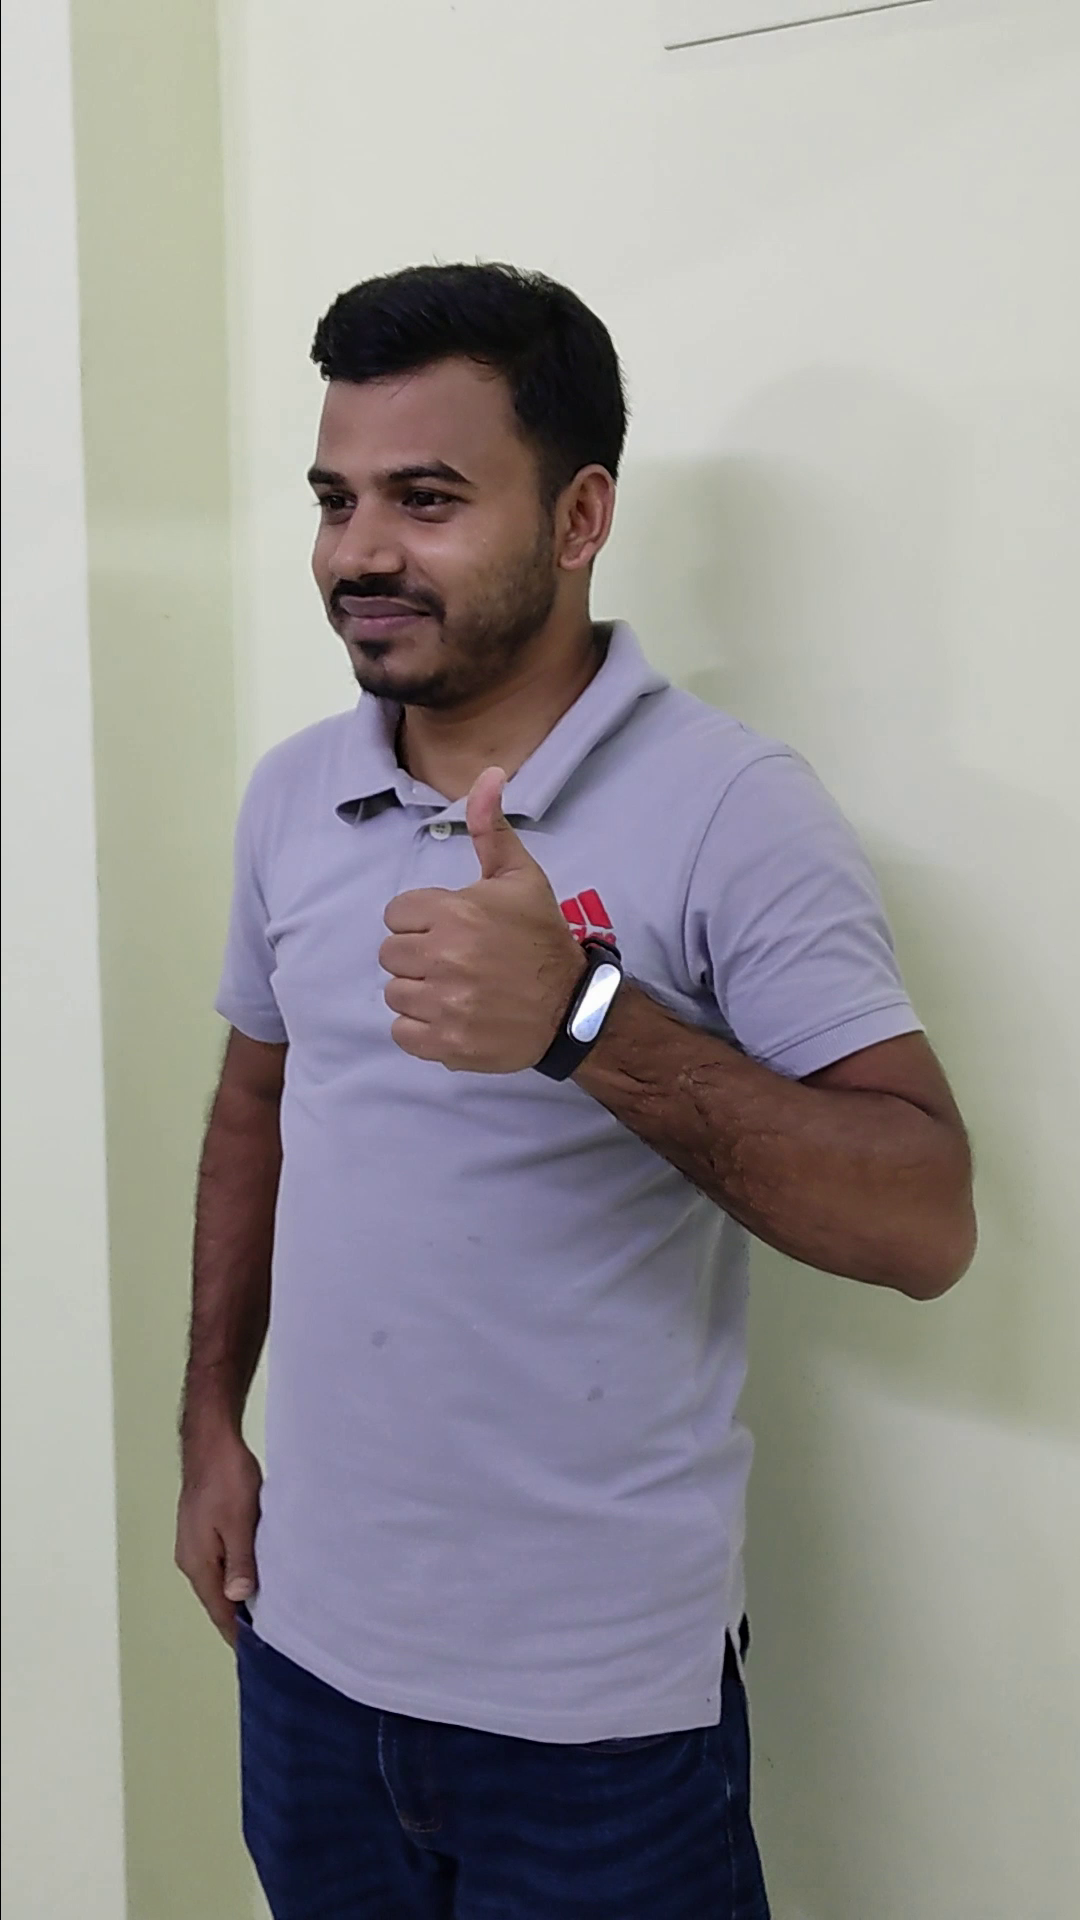Like: (360, 749, 600, 1087)
None: (138, 1386, 286, 1680)
